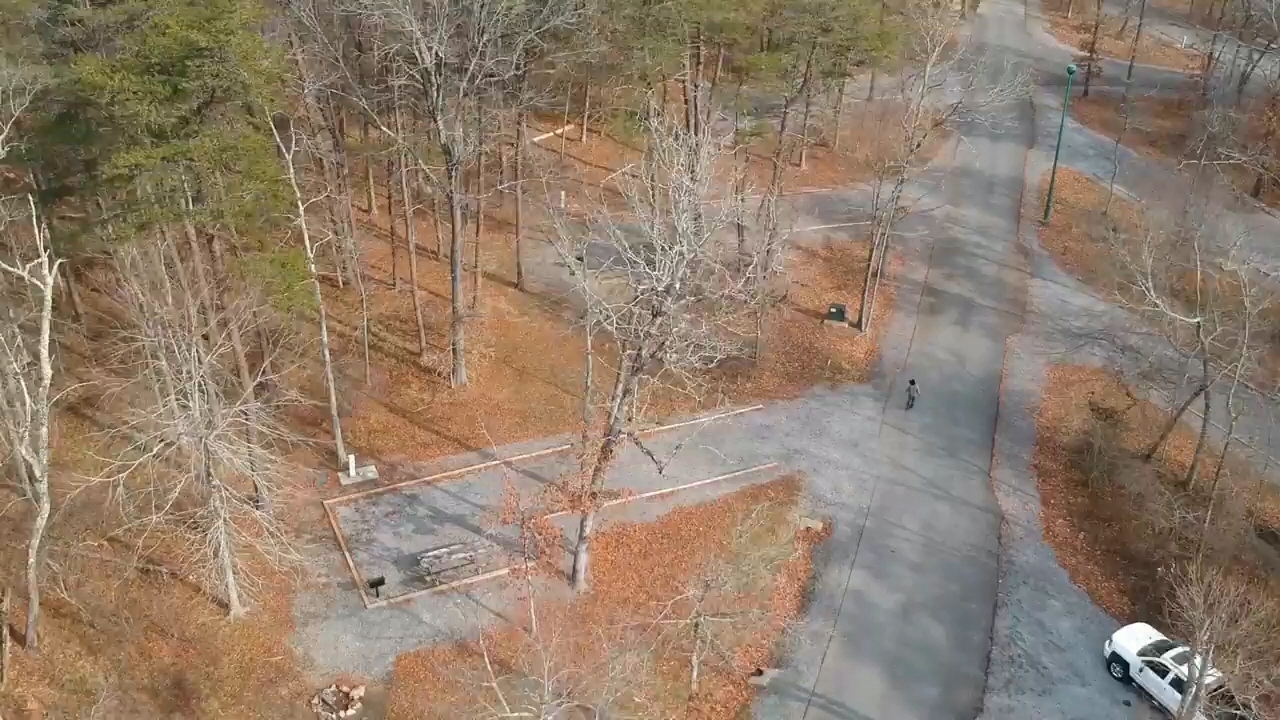insan: (903, 375, 925, 412)
kamyonet: (1096, 612, 1248, 720)
